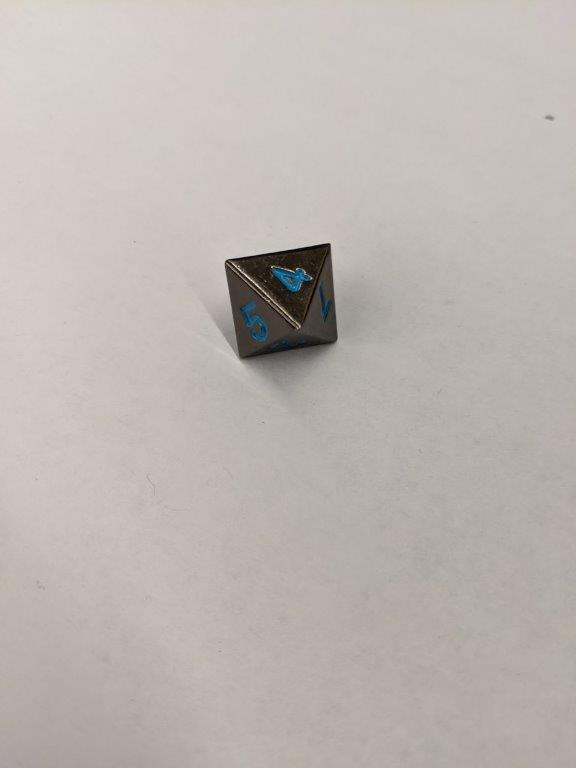d8-4: (225, 236, 343, 363)
